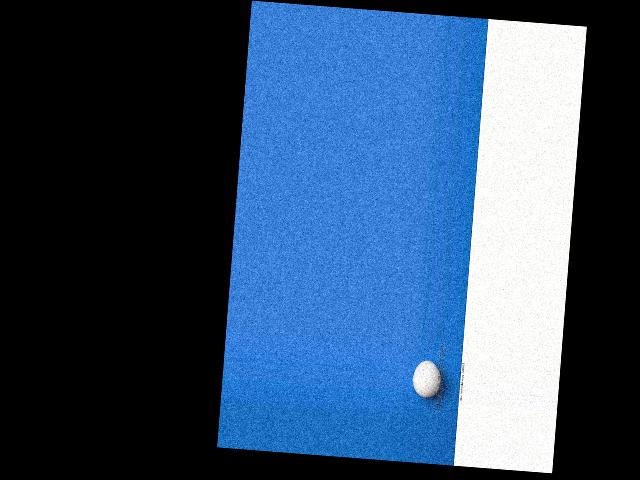egg: (411, 359, 443, 399)
